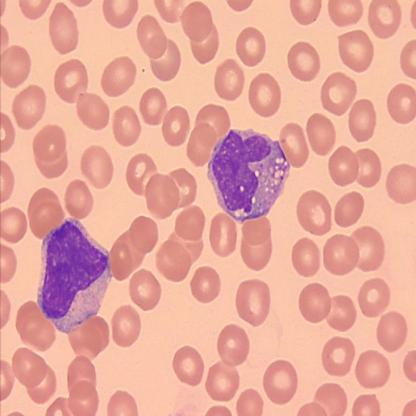Monocyte: (34, 214, 115, 336), (206, 127, 291, 227)
